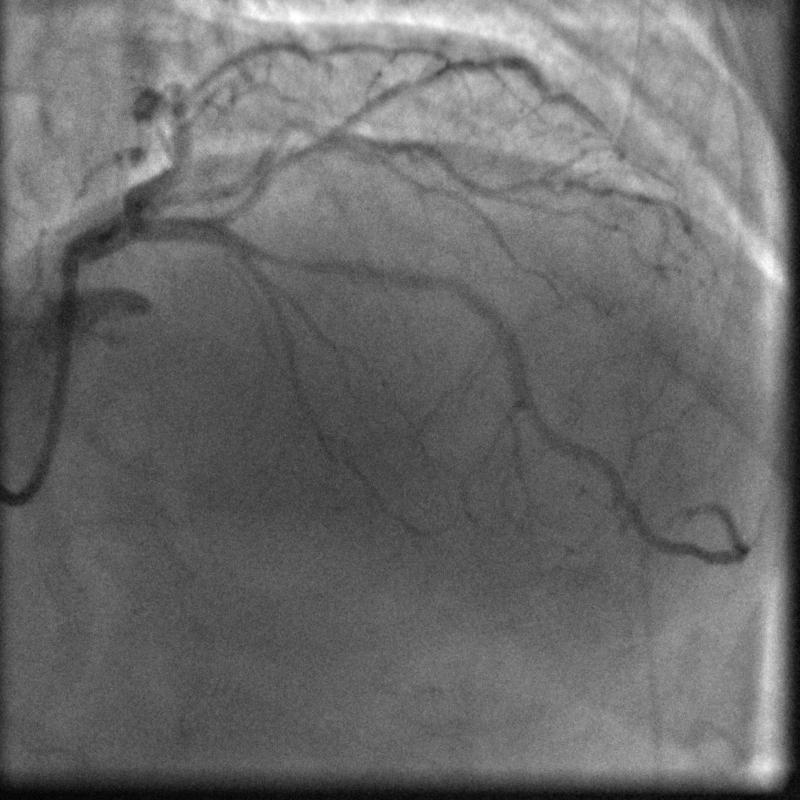Stenosis: (265, 241, 340, 283)
